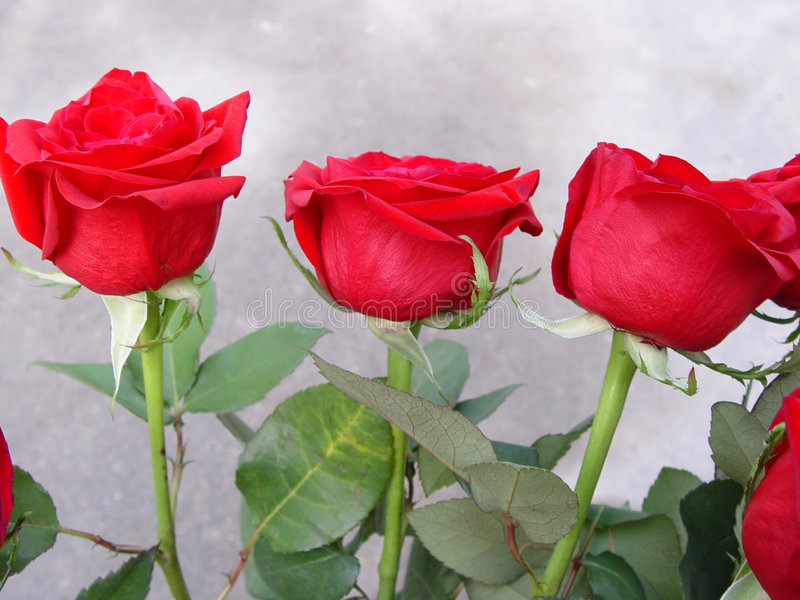RedRose: (278, 129, 560, 367), (4, 59, 254, 311), (564, 105, 800, 367)
